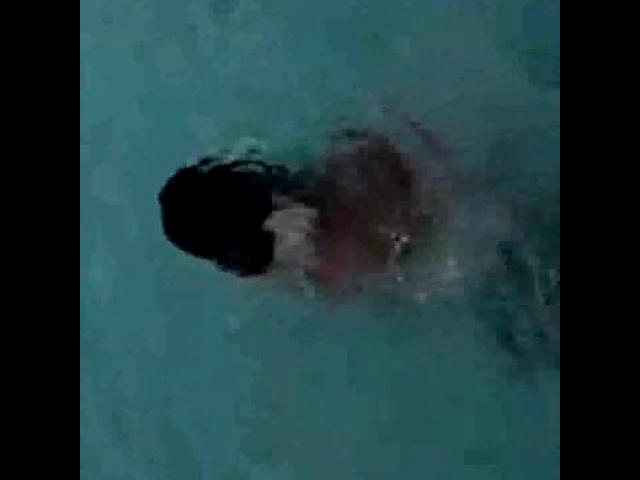drowning: (144, 111, 470, 308)
